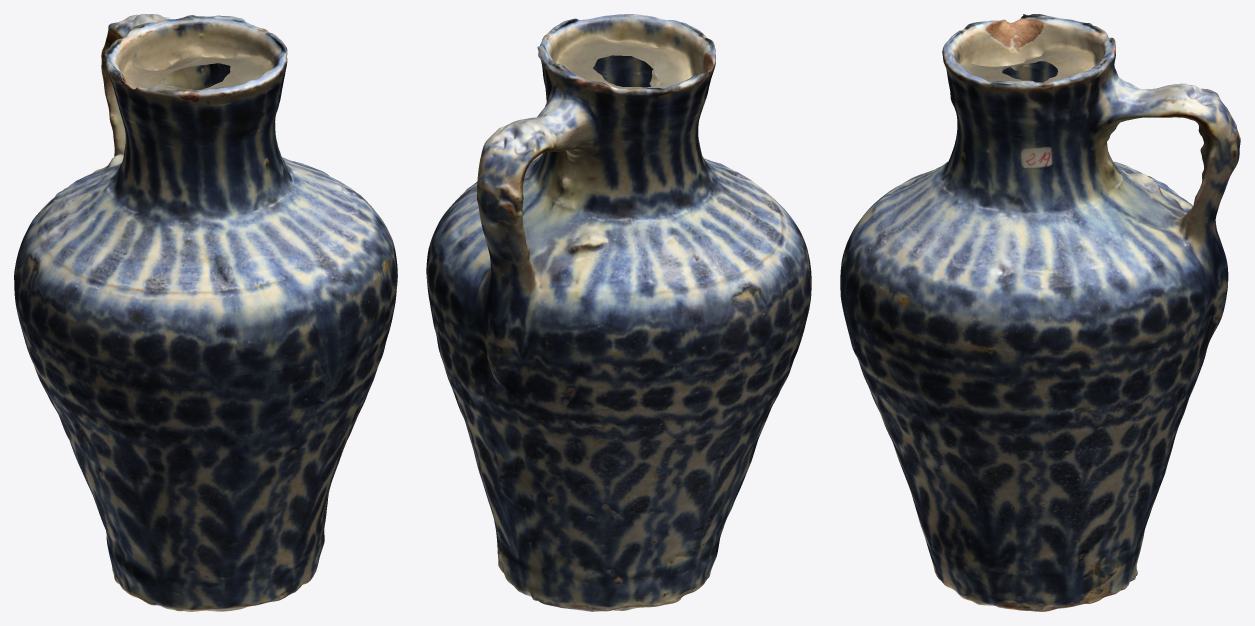
Rendered from obj_c_ntaro_fajalauza_hd_42_31139a.glb.
3 renders of one model, left to right at view 1: azimuth 30°, elevation 25°; view 2: azimuth 150°, elevation 25°; view 3: azimuth 270°, elevation 25°, orthographic.
Visible parts, largest first — view 1: obj_c_ntaro_fajalauza_hd_42_31139a; view 2: obj_c_ntaro_fajalauza_hd_42_31139a; view 3: obj_c_ntaro_fajalauza_hd_42_31139a.
Boxes of the visible parts, x1=… form: obj_c_ntaro_fajalauza_hd_42_31139a: x1=14, y1=14, x2=397, y2=611; obj_c_ntaro_fajalauza_hd_42_31139a: x1=426, y1=14, x2=811, y2=611; obj_c_ntaro_fajalauza_hd_42_31139a: x1=840, y1=14, x2=1240, y2=611.
Bounding box in the file's own units: 0.2265 × 0.35 × 0.2412.
Materials: 1 (1 with a texture image).
